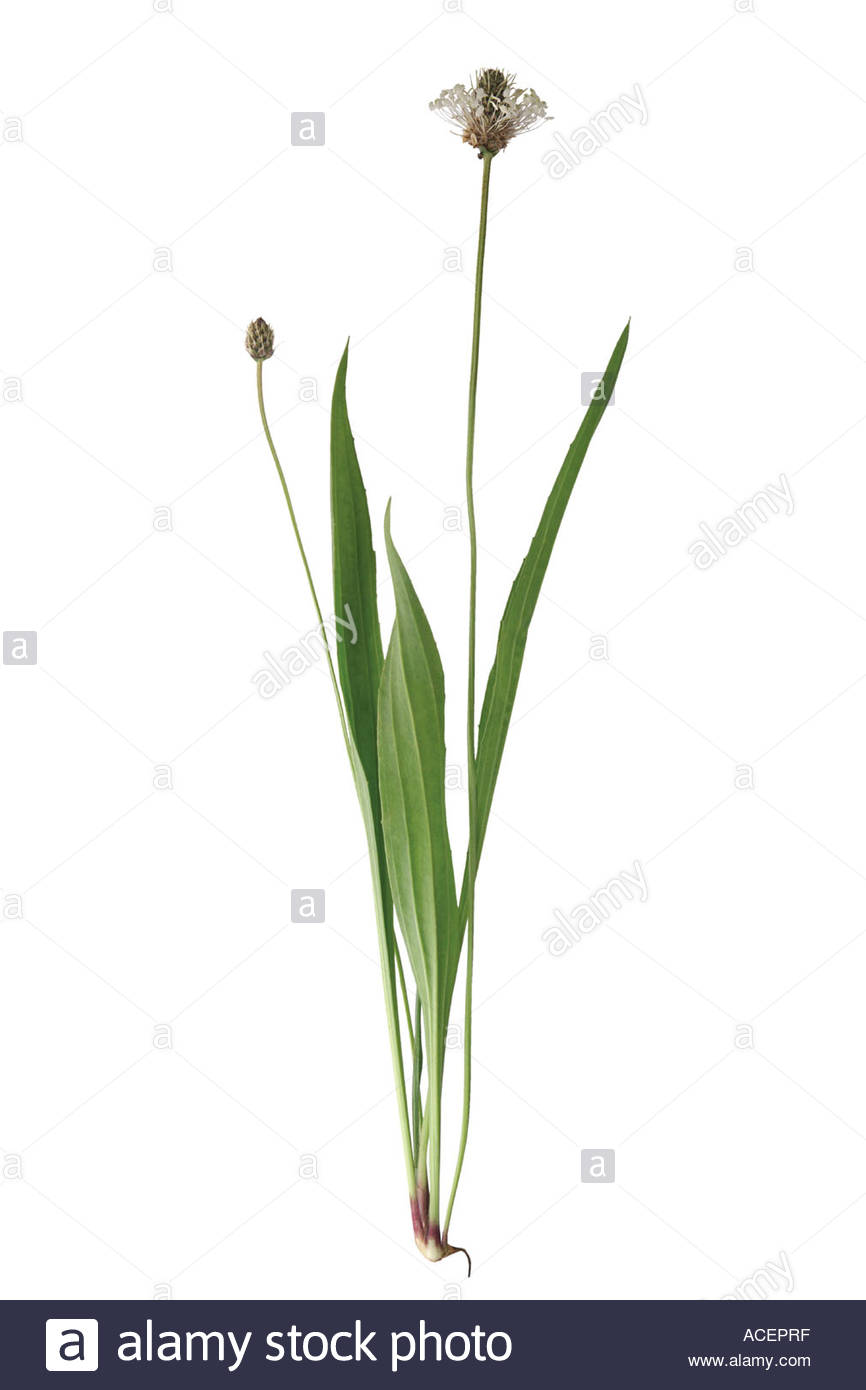buckhorn plantain: (185, 35, 652, 1045)
